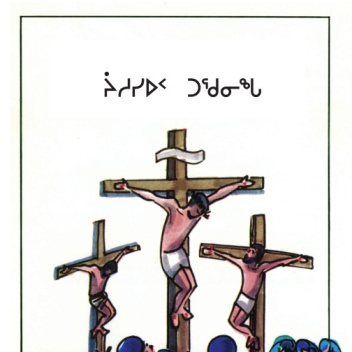inuktitut: (97, 65, 265, 100)
